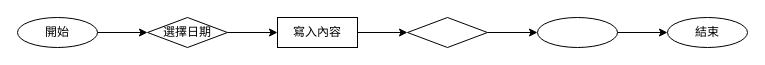
The diagram is 765 pixels wide and 65 high, and some of its shapes have lost their labels. Here are the shapes that lost their labels. From the top down, the box of each, then its label:
(406, 16, 488, 48): 加入圖片
(536, 16, 618, 48): 保存
